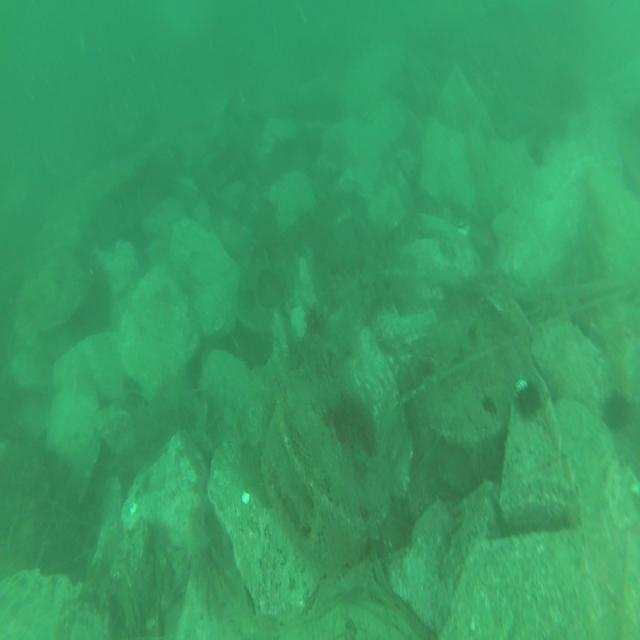echinus: (599, 386, 630, 430), (515, 377, 539, 424)
